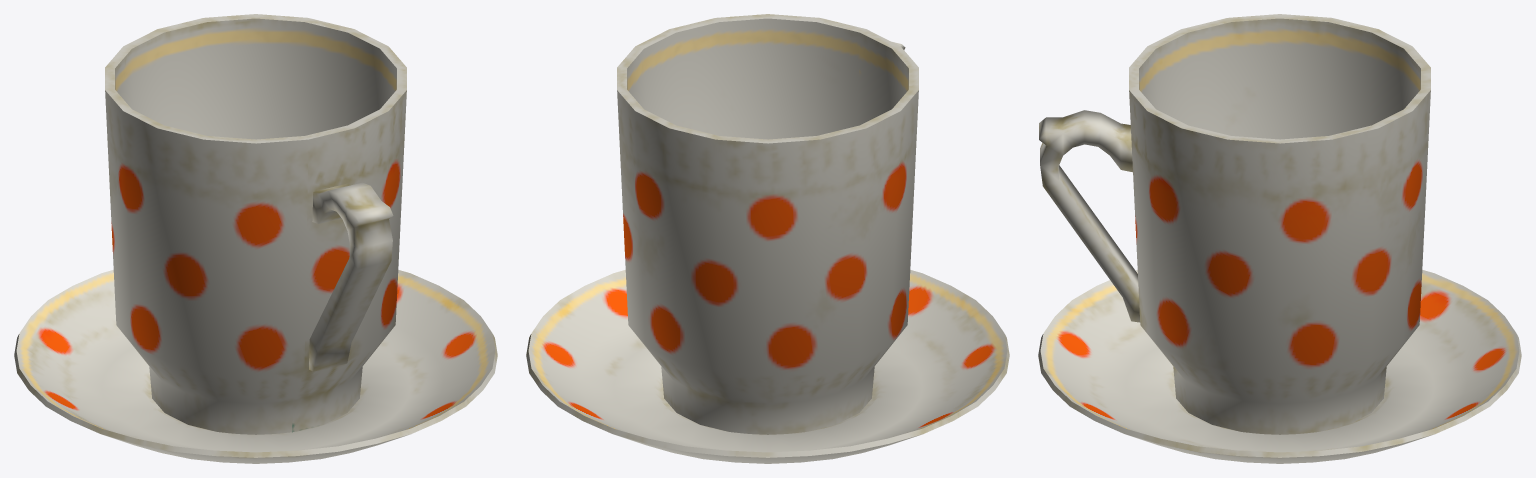
The model's file is Cup01.FBX.
3 views of the same model, side by side, from view 1: azimuth 30°, elevation 25°; view 2: azimuth 150°, elevation 25°; view 3: azimuth 270°, elevation 25° (orthographic).
Visible parts, largest first — view 1: Cup01_LOD0; view 2: Cup01_LOD0; view 3: Cup01_LOD0.
Boxes of the visible parts, x1,y1,x2,y2 form: Cup01_LOD0: (14, 14, 497, 463); Cup01_LOD0: (526, 14, 1009, 463); Cup01_LOD0: (1038, 14, 1521, 463).
Bounding box in the file's own units: 8.48 × 8.46 × 6.16.
